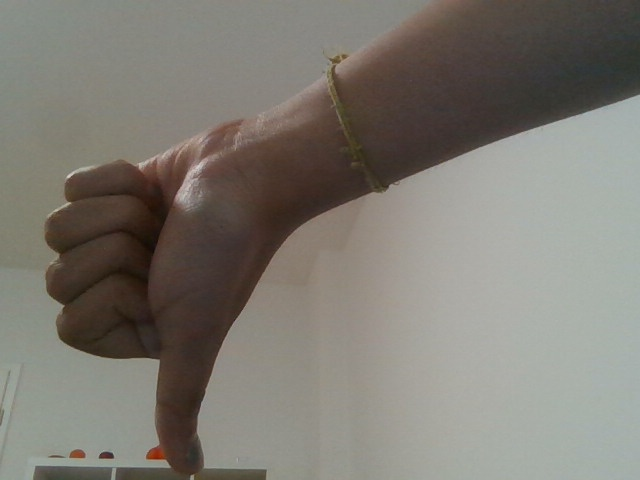thumbs_down: (22, 113, 308, 477)
